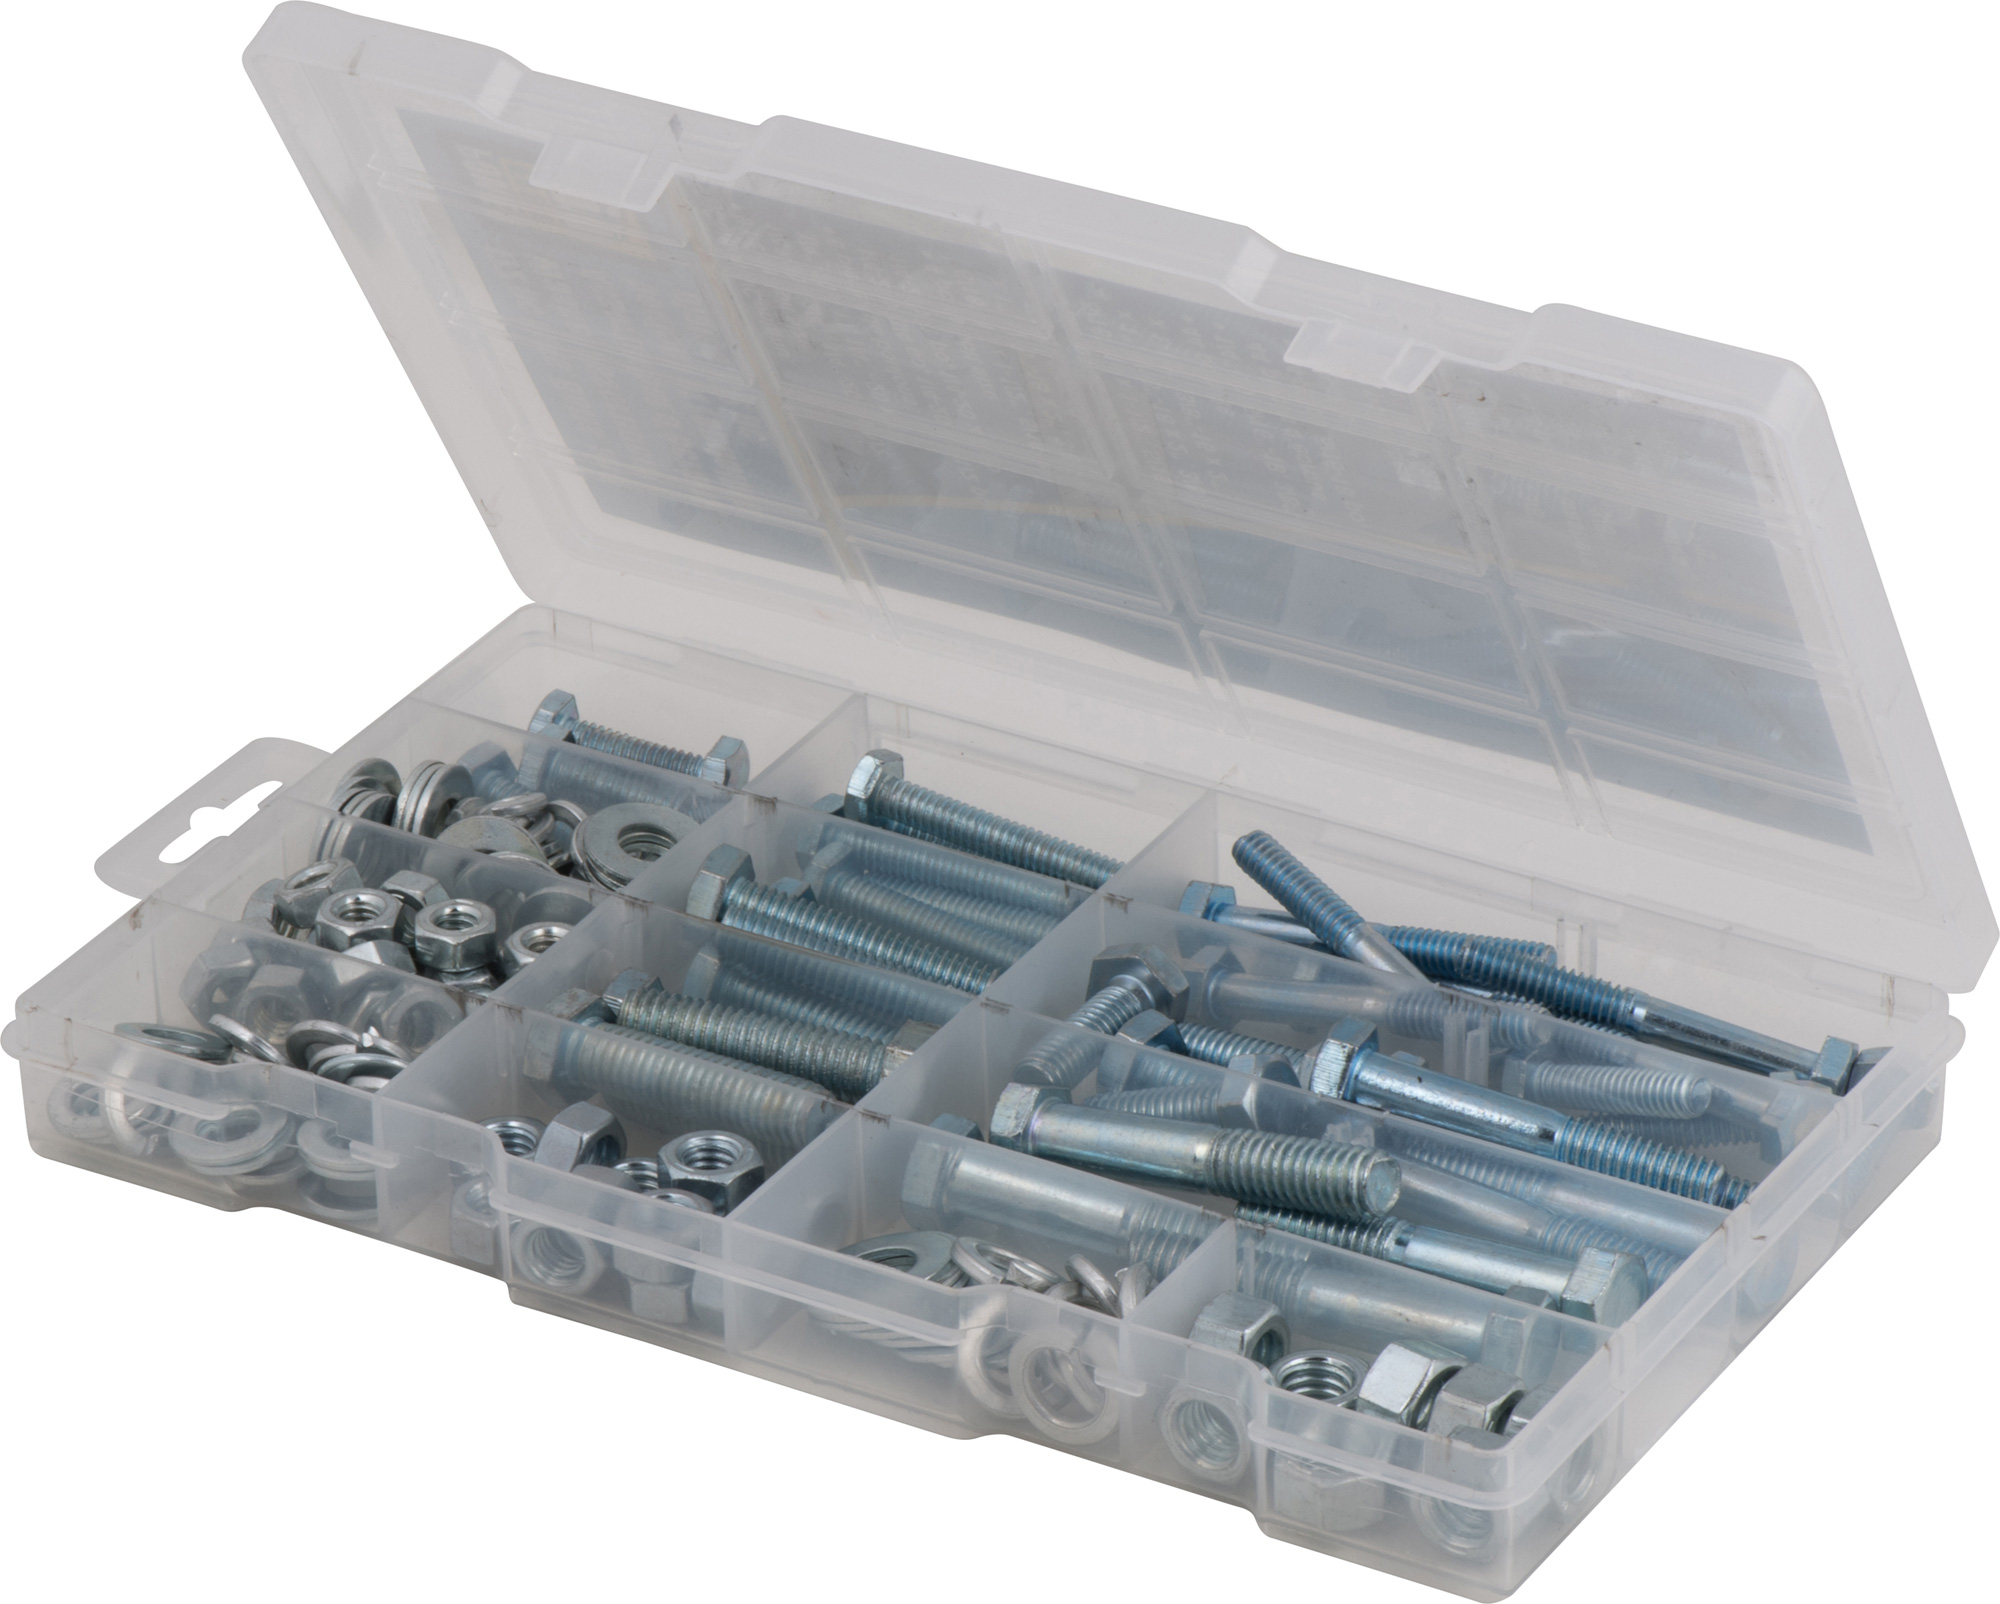flat washer: (561, 784, 710, 887)
hex bolt: (974, 1061, 1416, 1228), (516, 985, 861, 1149)
hex nut: (304, 874, 416, 964), (393, 877, 502, 967), (650, 1116, 759, 1206)
